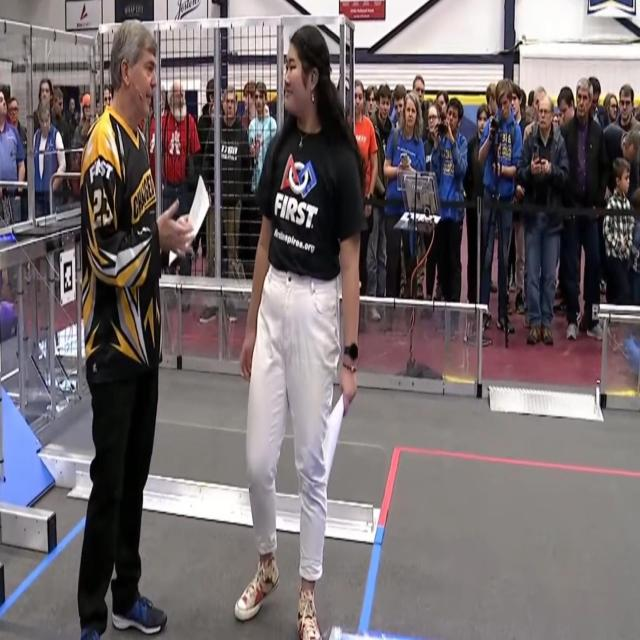frc_cube: (0, 299, 19, 341)
